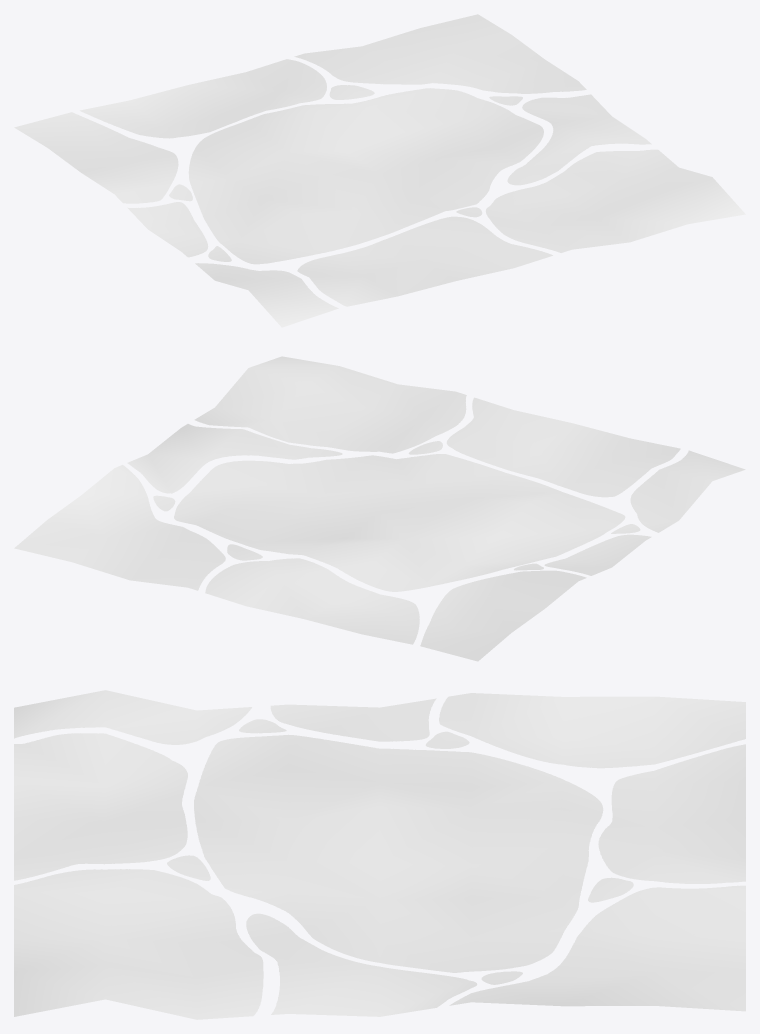
The model's file is Water_Plane_01.FBX.
The picture shows the model from 3 angles, top to bottom: view 1: azimuth 30°, elevation 25°; view 2: azimuth 150°, elevation 25°; view 3: azimuth 270°, elevation 25°; orthographic projection. The views are drawn at different scales.
Parts seen in each view (by area): view 1: Water_Plane_002; view 2: Water_Plane_002; view 3: Water_Plane_002.
Part boxes in pixels (<box>): Water_Plane_002: <box>14,14,745,327</box>; Water_Plane_002: <box>14,356,745,661</box>; Water_Plane_002: <box>14,690,745,1019</box>.
Bounding box in the file's own units: 49.84 × 1.74 × 49.84.
